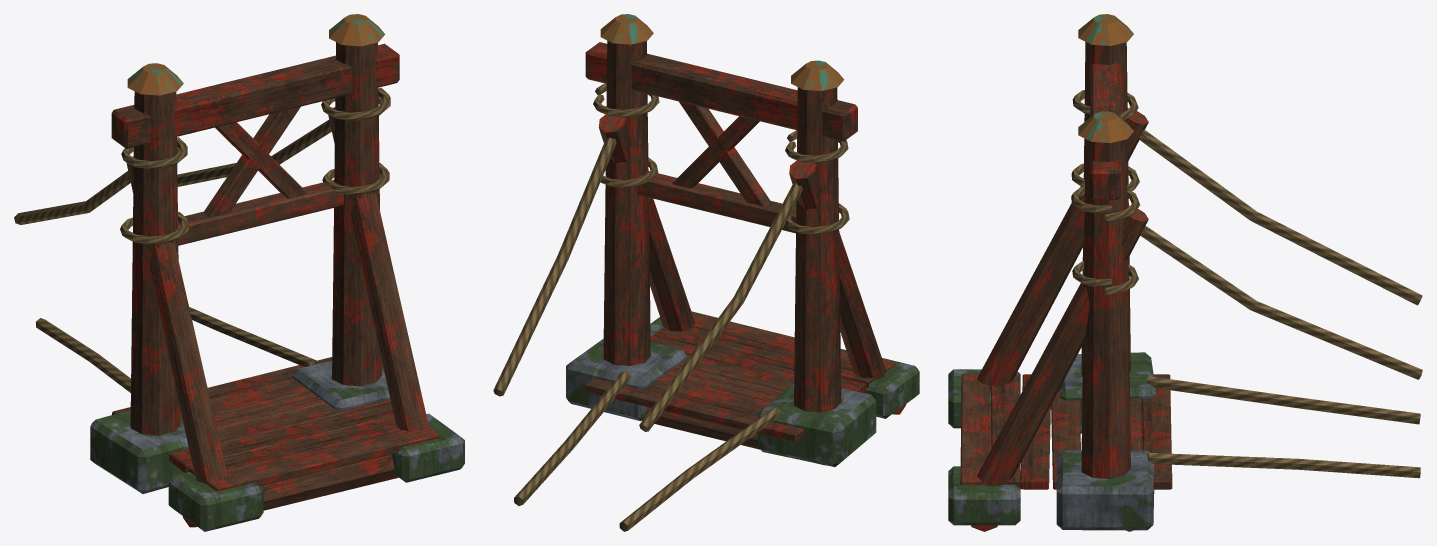
The model's file is Rope_Bridge_Anchor.glb.
3 renders of one model, left to right at view 1: azimuth 30°, elevation 25°; view 2: azimuth 150°, elevation 25°; view 3: azimuth 270°, elevation 25°, orthographic. The views are drawn at different scales.
Visible parts, largest first — view 1: Rope_Bridge_Anchor__Timber, Rope_Bridge_Anchor__Stone, Rope_Bridge_Anchor__Rope, Rope_Bridge_Anchor__Bronze; view 2: Rope_Bridge_Anchor__Timber, Rope_Bridge_Anchor__Rope, Rope_Bridge_Anchor__Stone, Rope_Bridge_Anchor__Bronze; view 3: Rope_Bridge_Anchor__Timber, Rope_Bridge_Anchor__Rope, Rope_Bridge_Anchor__Stone, Rope_Bridge_Anchor__Bronze.
Part boxes in pixels (bbox=[...]): Rope_Bridge_Anchor__Timber: bbox=[111, 42, 439, 527]; Rope_Bridge_Anchor__Stone: bbox=[90, 360, 464, 531]; Rope_Bridge_Anchor__Rope: bbox=[14, 87, 390, 392]; Rope_Bridge_Anchor__Bronze: bbox=[127, 14, 385, 95]; Rope_Bridge_Anchor__Timber: bbox=[585, 41, 906, 465]; Rope_Bridge_Anchor__Rope: bbox=[493, 83, 849, 531]; Rope_Bridge_Anchor__Stone: bbox=[566, 311, 919, 466]; Rope_Bridge_Anchor__Bronze: bbox=[600, 14, 844, 90]; Rope_Bridge_Anchor__Timber: bbox=[960, 42, 1172, 531]; Rope_Bridge_Anchor__Rope: bbox=[1071, 90, 1422, 478]; Rope_Bridge_Anchor__Stone: bbox=[948, 352, 1156, 530]; Rope_Bridge_Anchor__Bronze: bbox=[1078, 14, 1133, 143].
Size of the model in its own units: 10.9 by 14.7 by 15.69.
4 materials, 4 textured.
